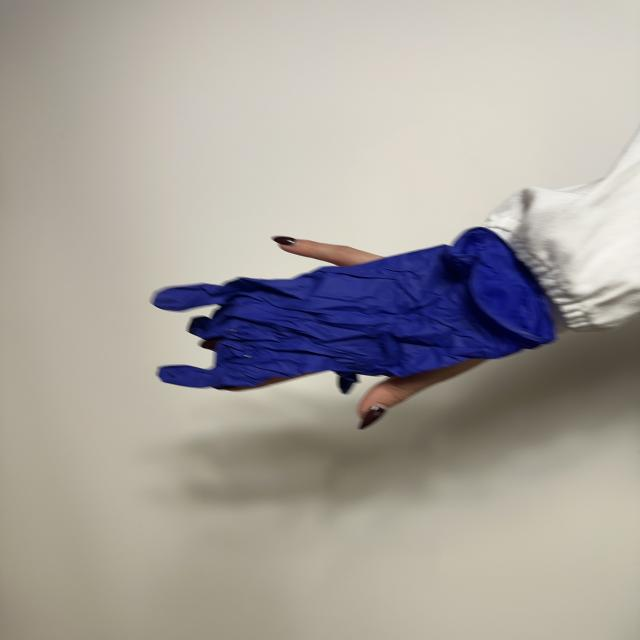glove_not_fitted: (153, 227, 556, 428)
